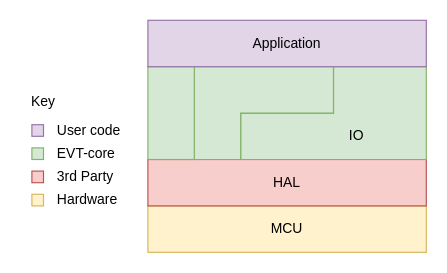
This 447x273 diagram has some shape labels left out. The shapes that lost their labels are listed below. From the top down, each one's box as (x1, y1, x2, y2) in pixels, then its label:
(147, 66, 194, 160): Platform
(193, 66, 334, 160): DEV
